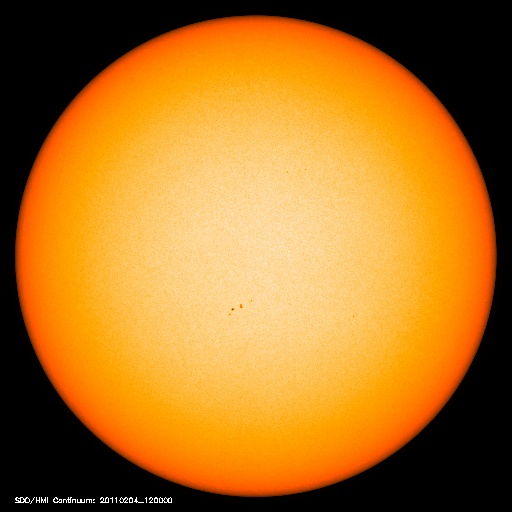sunspot: (221, 293, 256, 323)
